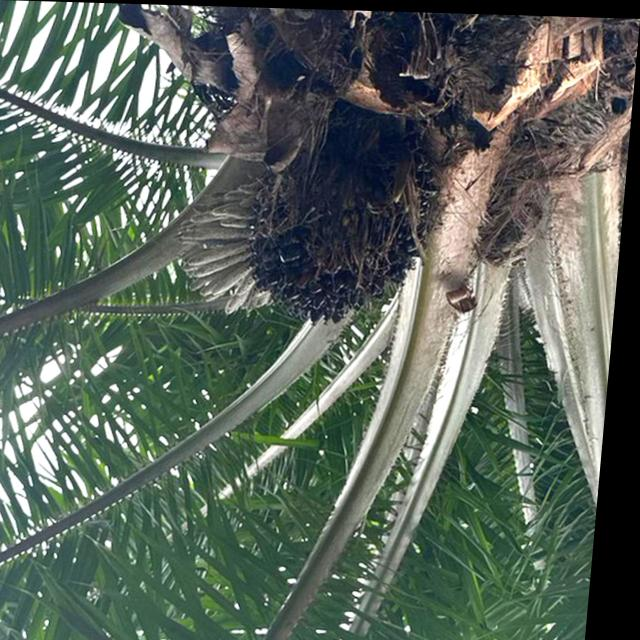unripe: (243, 113, 452, 329)
